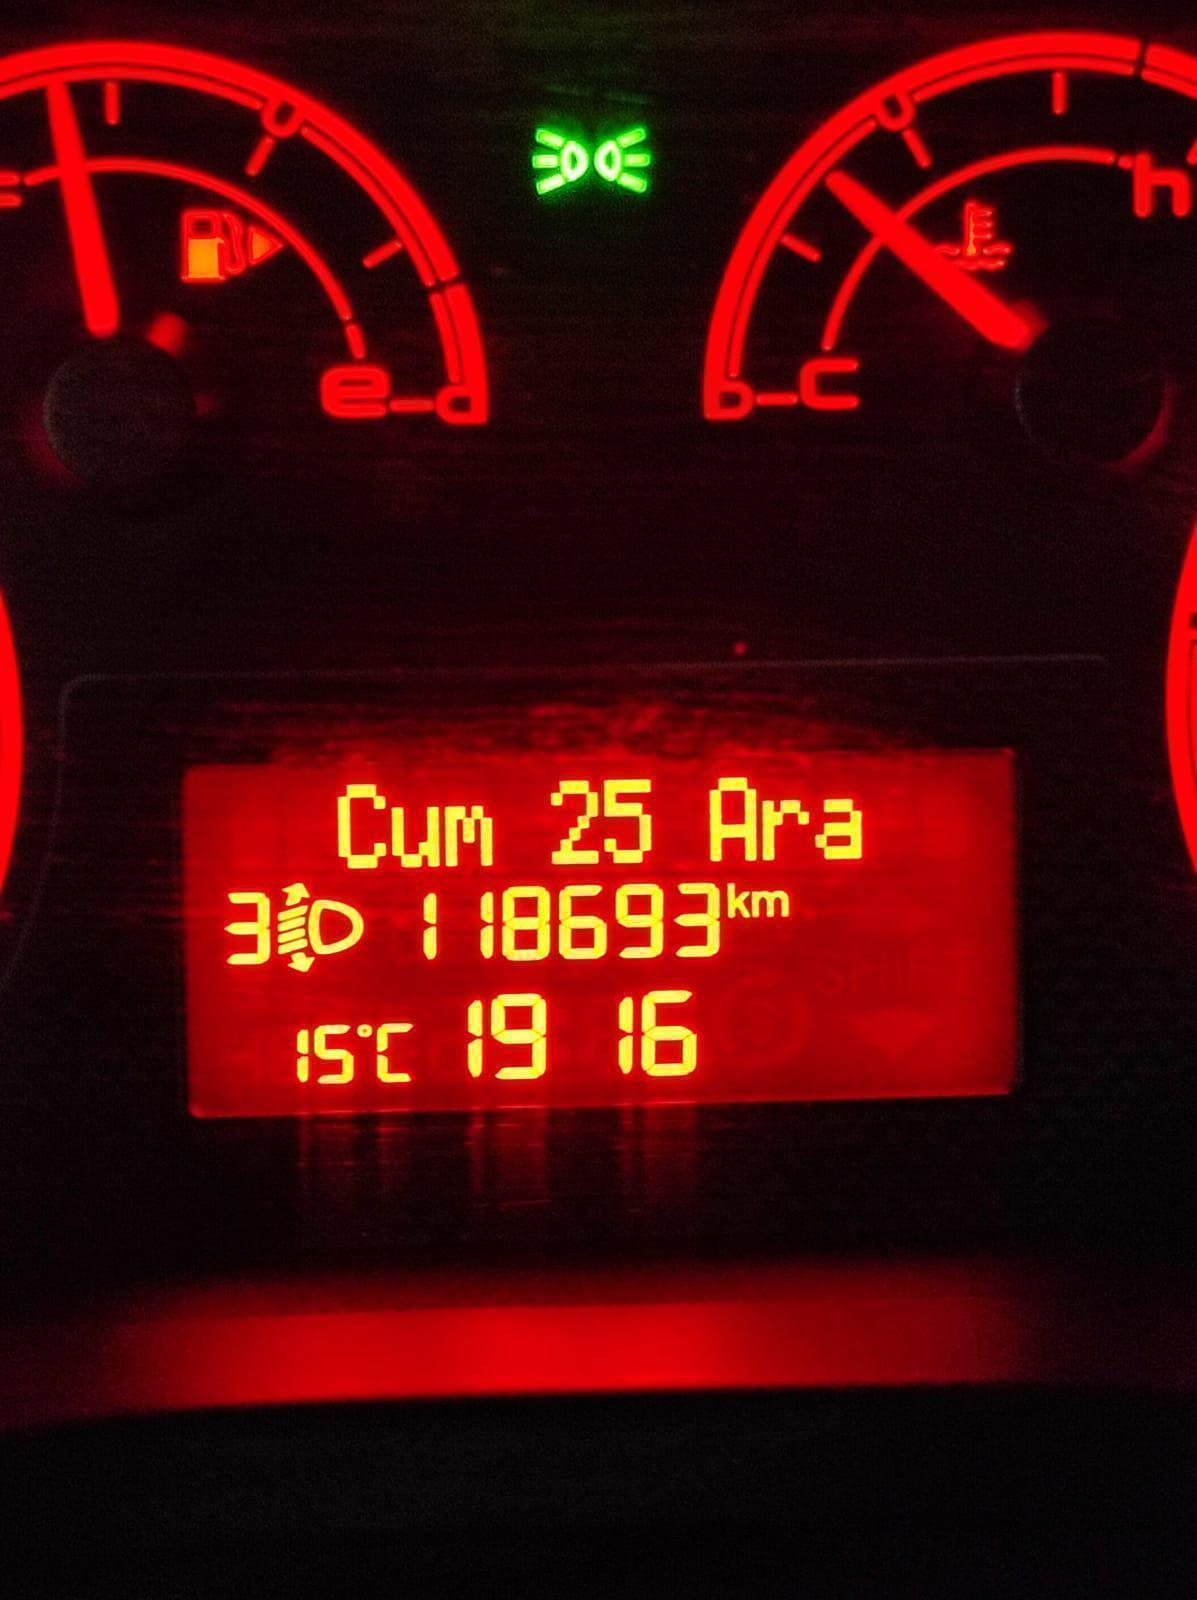1: (463, 995, 487, 1082), (615, 989, 637, 1077), (417, 886, 439, 965), (479, 887, 494, 959), (293, 1024, 311, 1085)
2: (551, 778, 598, 868)
3: (671, 879, 718, 963), (224, 889, 270, 967)
5: (602, 774, 658, 867), (311, 1021, 355, 1088)
6: (640, 987, 695, 1081), (557, 882, 612, 964)
8: (500, 882, 553, 964)
9: (489, 987, 547, 1082), (615, 884, 664, 960)
X: (336, 783, 389, 872), (708, 775, 759, 863), (387, 803, 441, 874), (444, 802, 493, 871), (761, 796, 808, 863), (375, 1021, 417, 1088), (819, 797, 861, 862), (751, 889, 791, 923), (727, 879, 754, 923)
odometer: (166, 747, 1030, 1104)
